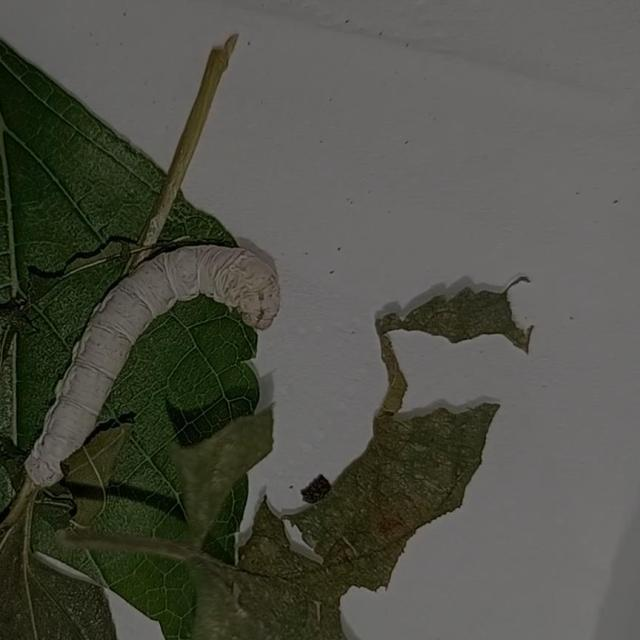Healthy: (17, 223, 294, 502)
